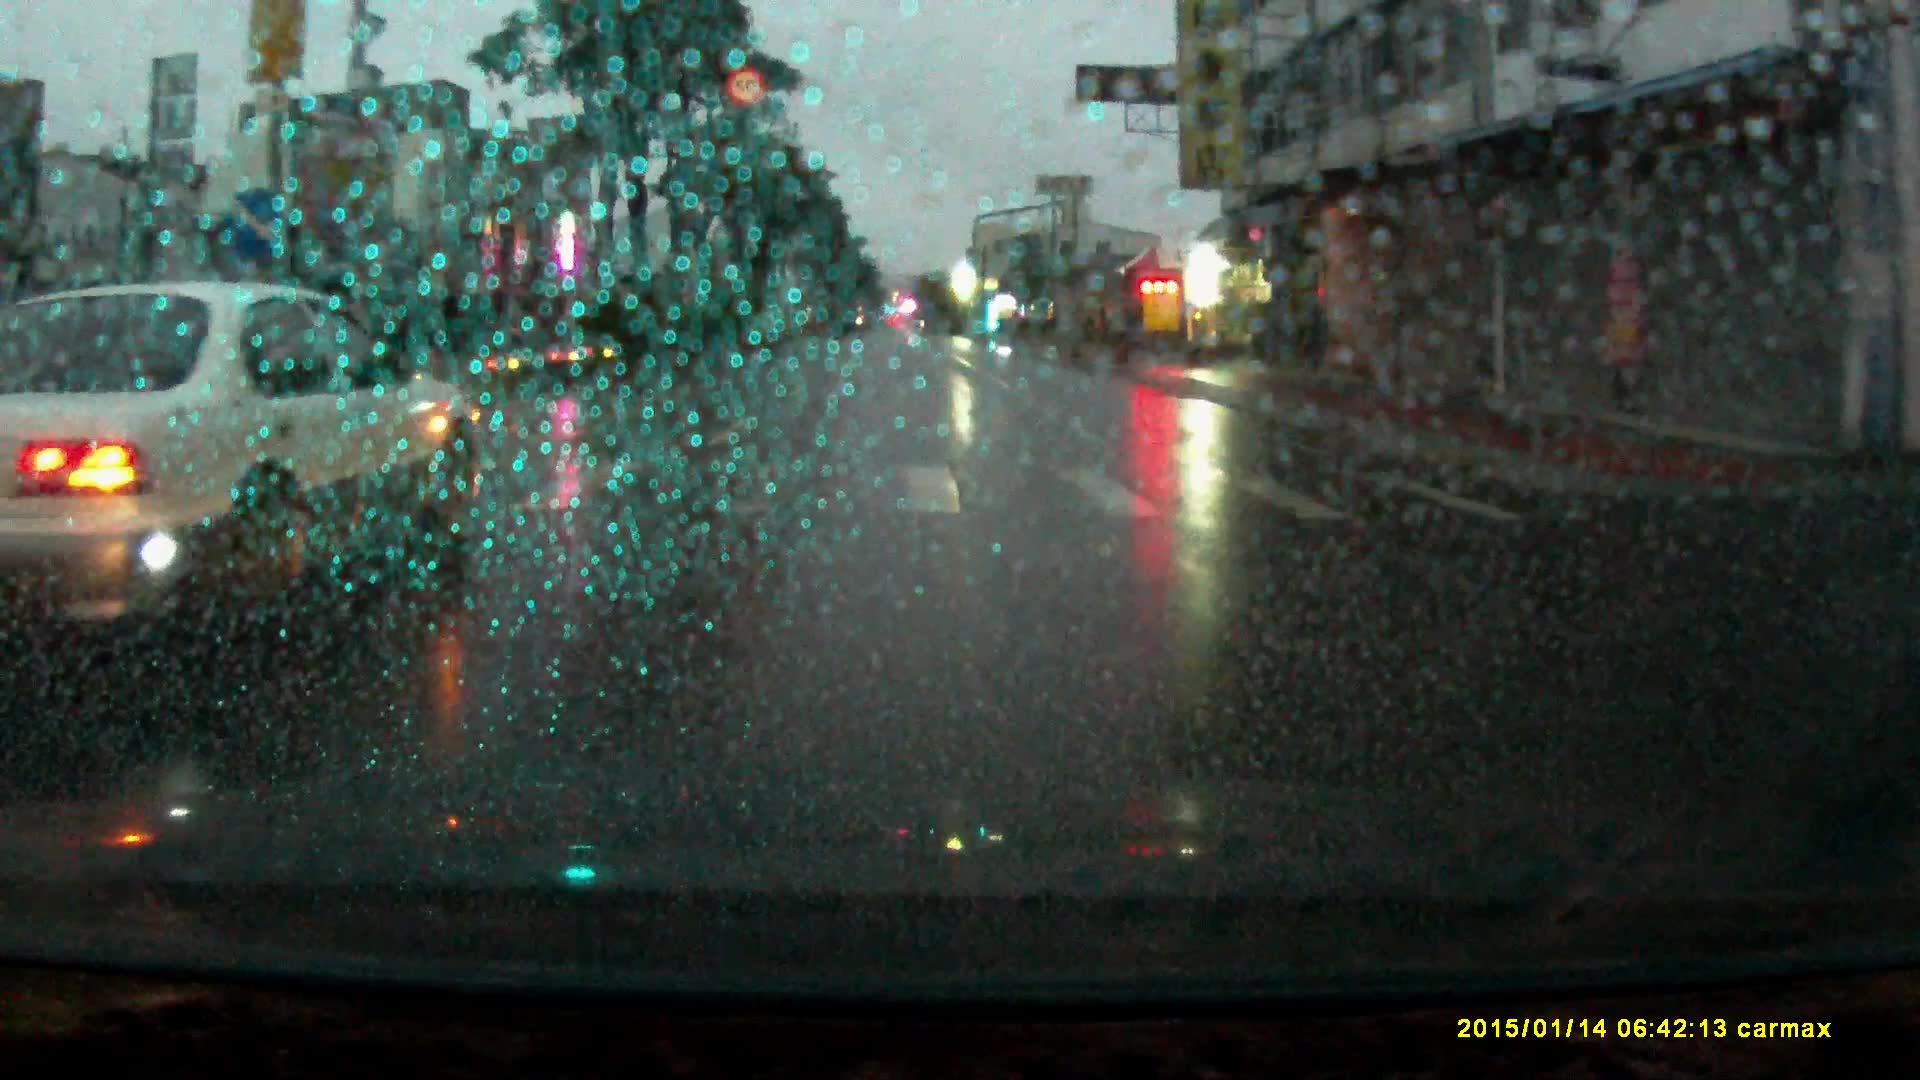vehicle: (1, 286, 492, 642)
